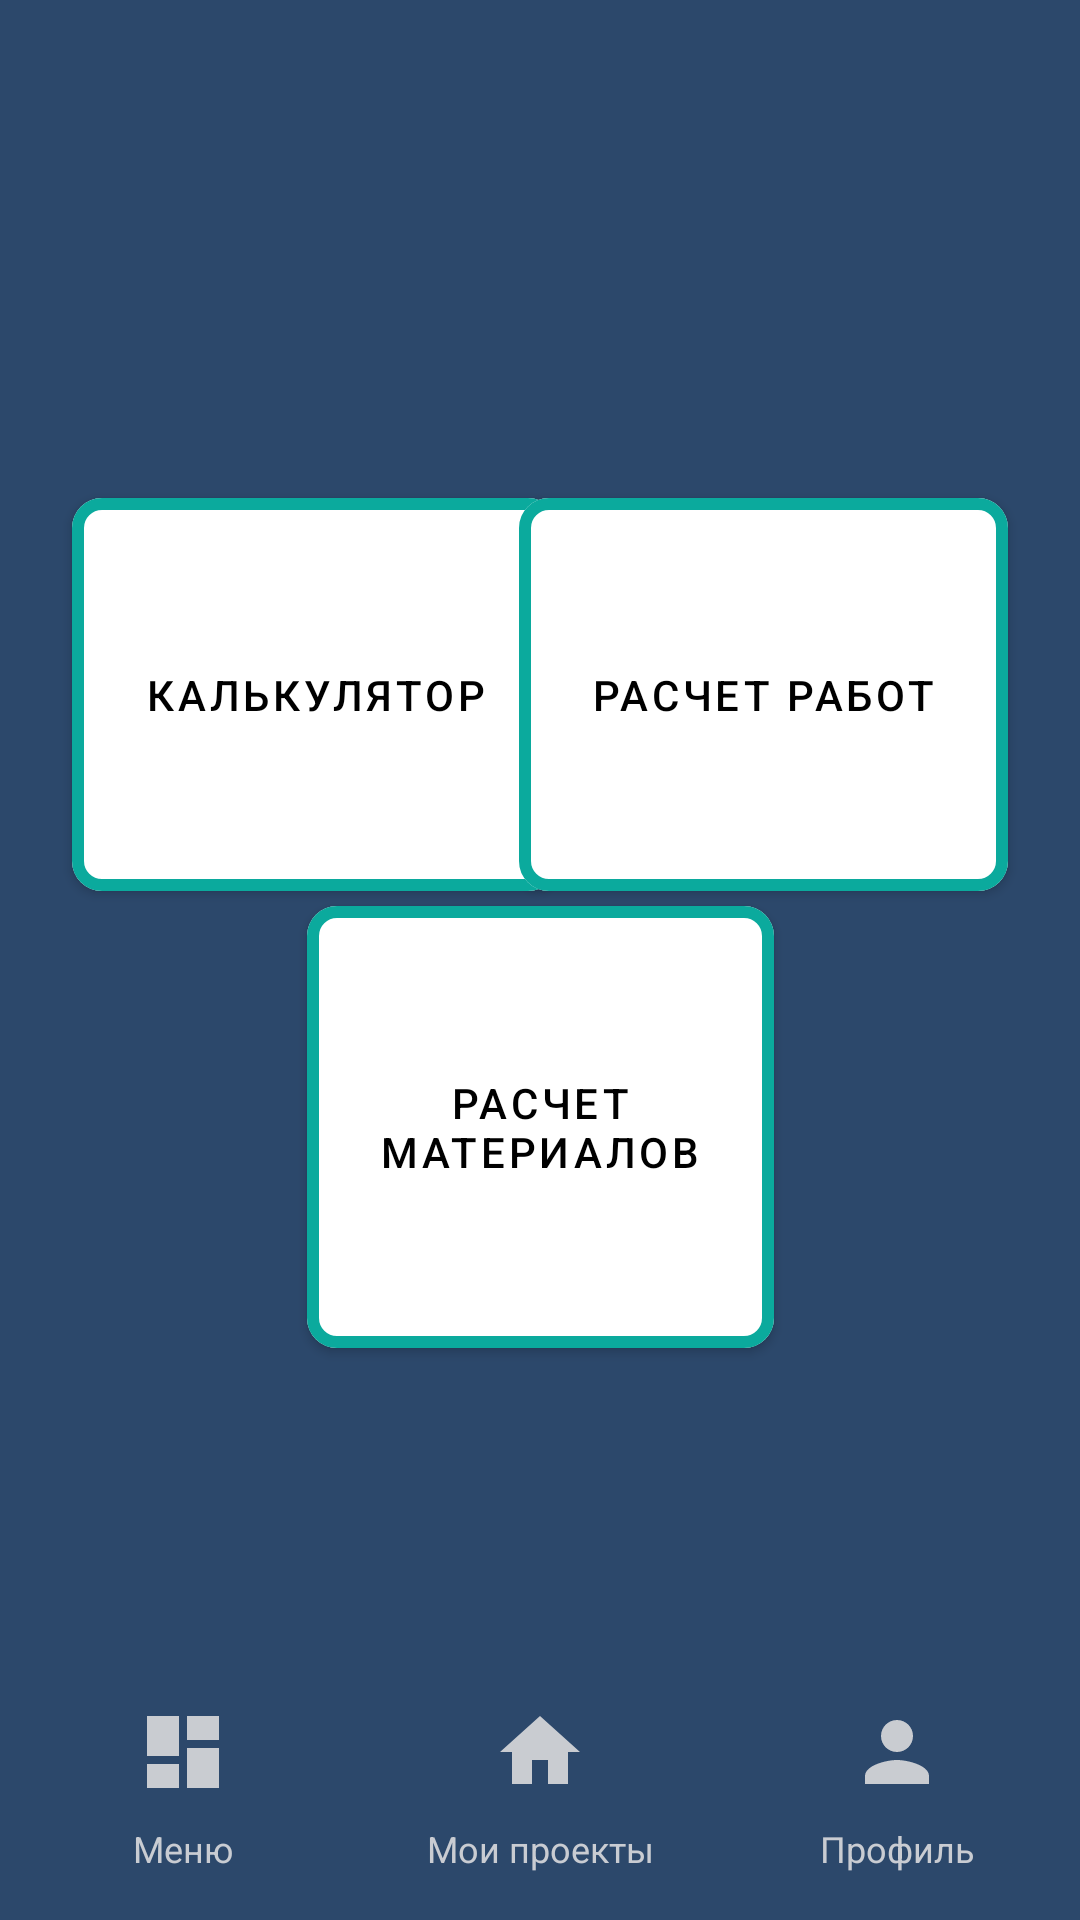

Icons on this 1080px x 1920px Android screen, each with its box as bbox=(x1, y1, x2, y2):
home: bbox=(500, 1716, 580, 1784)
menu: bbox=(147, 1716, 219, 1788)
profile: bbox=(865, 1720, 929, 1784)
